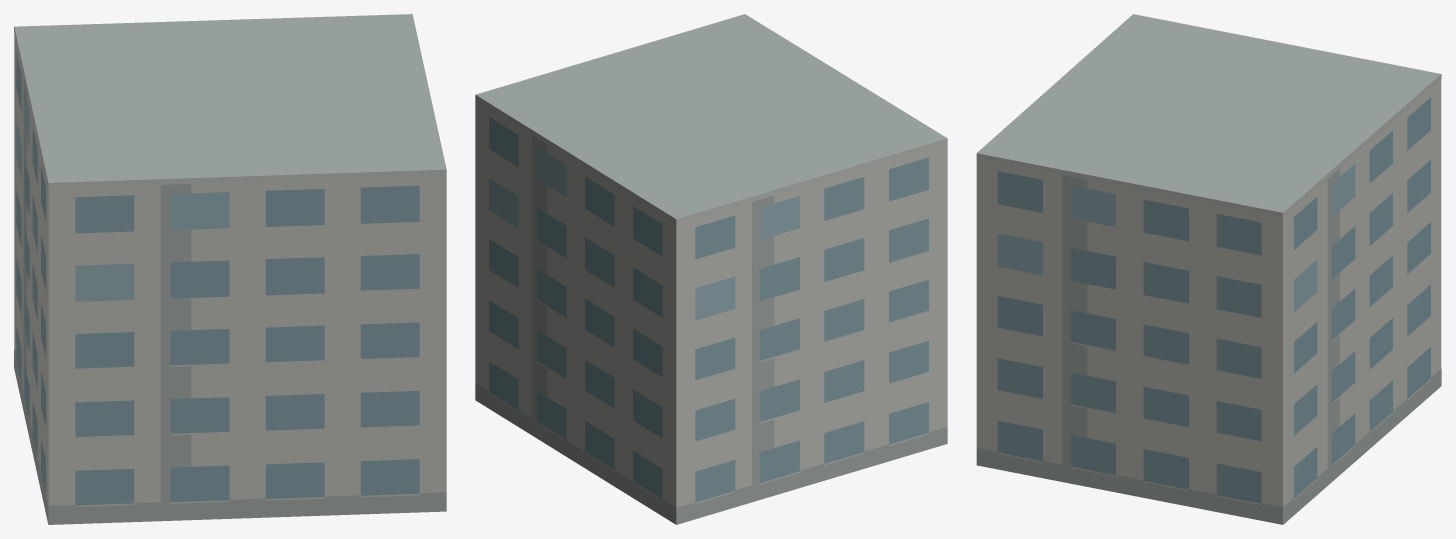
File: survey-upis-32488308.glb
3 renders of one model, left to right at view 1: azimuth 30°, elevation 25°; view 2: azimuth 150°, elevation 25°; view 3: azimuth 270°, elevation 25°, orthographic. The views are drawn at different scales.
Visible parts, largest first — view 1: survey-upis-32488308.tmp; view 2: survey-upis-32488308.tmp; view 3: survey-upis-32488308.tmp.
Part boxes in pixels (x1=…): survey-upis-32488308.tmp: x1=14, y1=14, x2=446, y2=524; survey-upis-32488308.tmp: x1=475, y1=14, x2=947, y2=524; survey-upis-32488308.tmp: x1=976, y1=14, x2=1441, y2=524.
Bounding box in the file's own units: 20.22 × 14.8 × 19.99.
